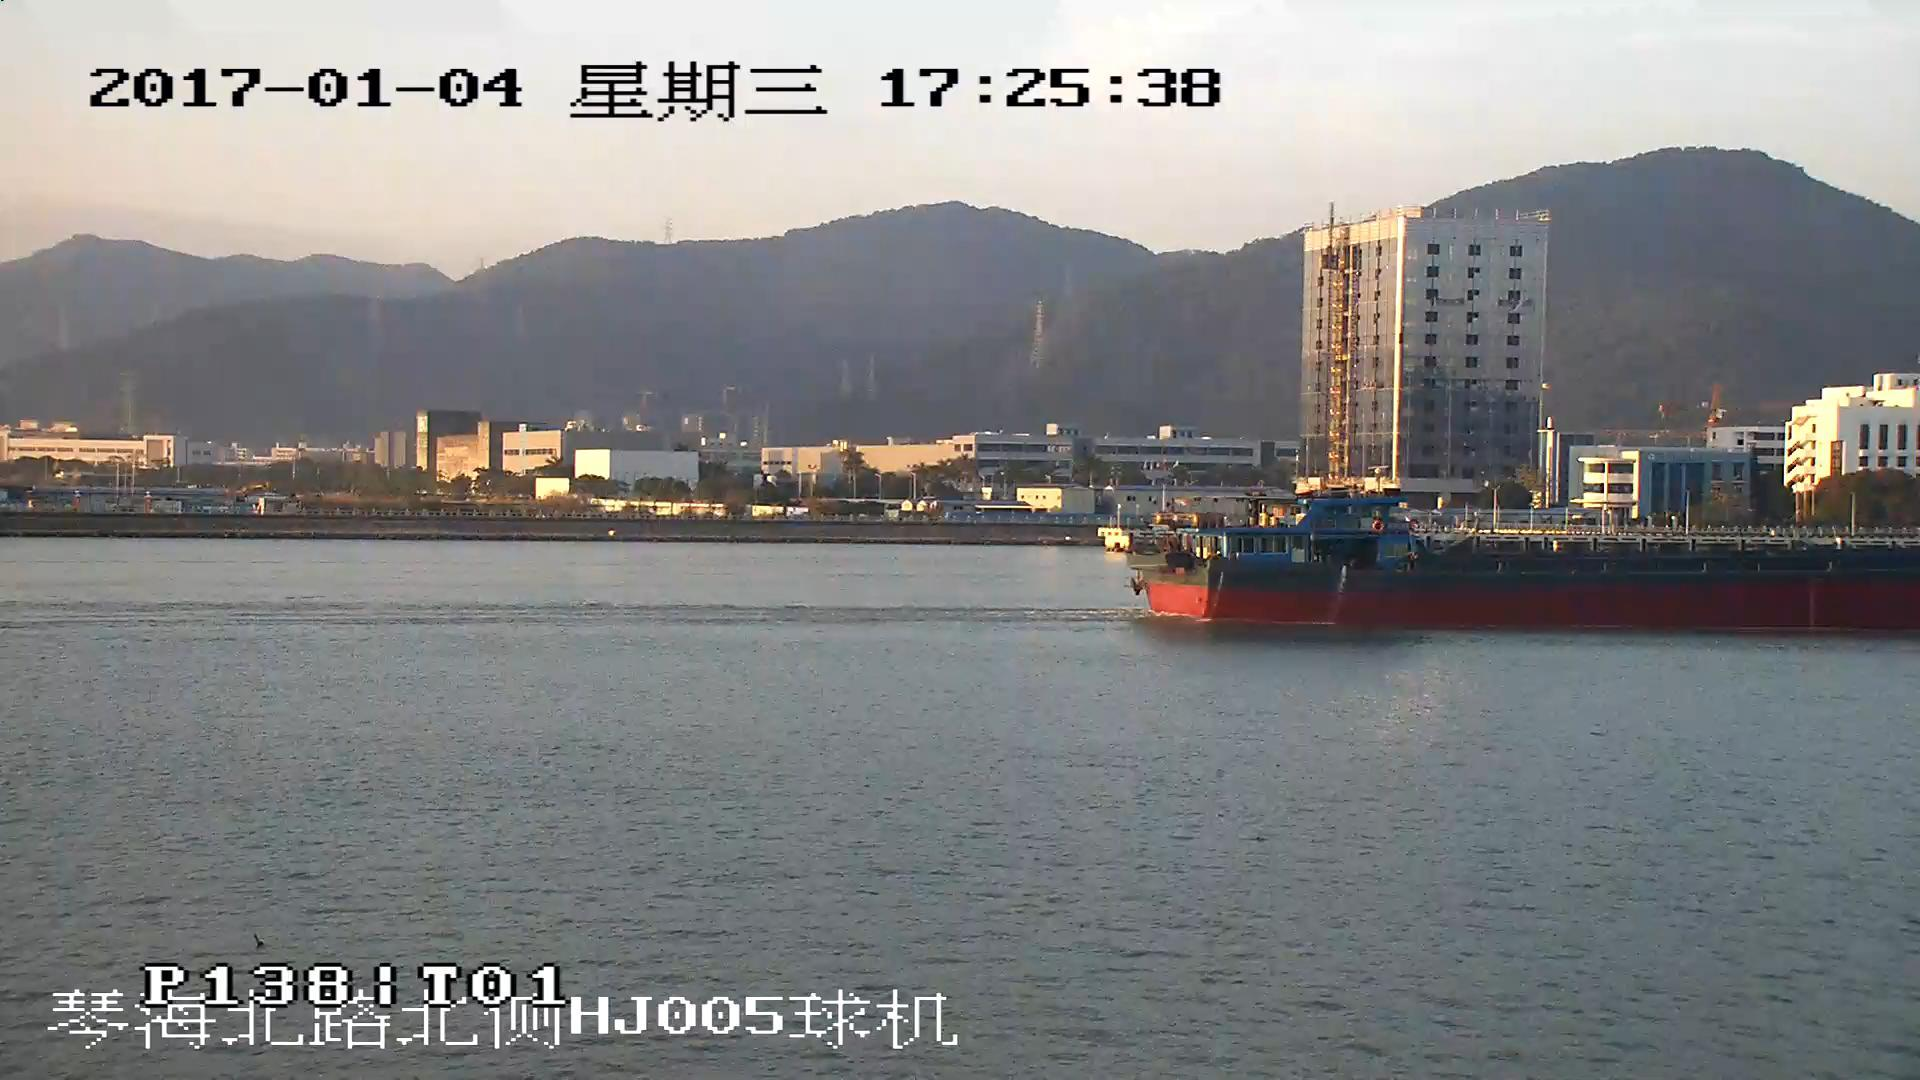Ship: (1120, 498, 1920, 636)
